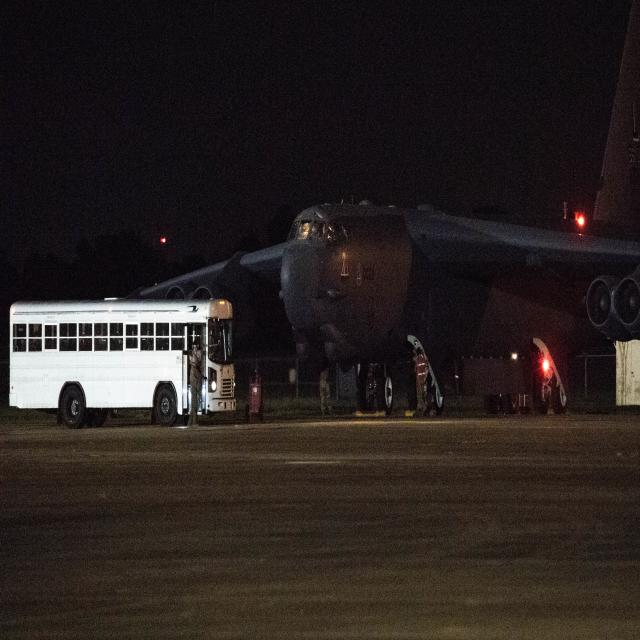MIL_Plane: (106, 0, 638, 418)
